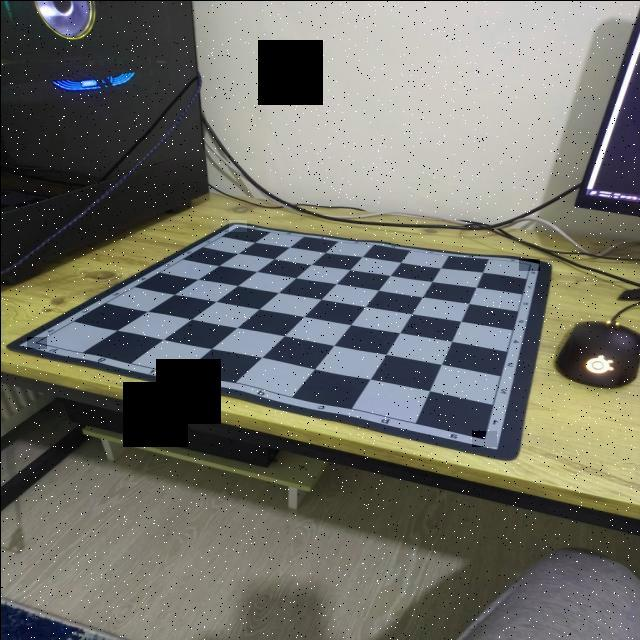chess-table-corners: (471, 430, 496, 446), (518, 258, 539, 270), (26, 336, 46, 348), (228, 219, 246, 231)
